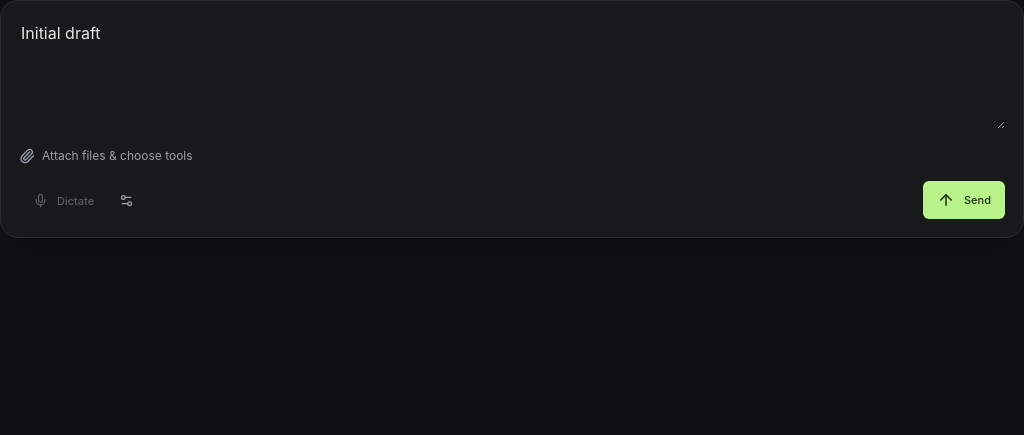
it: explains missing local runtime without asking for a microphone or enqueuing
Click the button named "Dictation options": {"x": 127, "y": 201} 110,184 -> 143,217
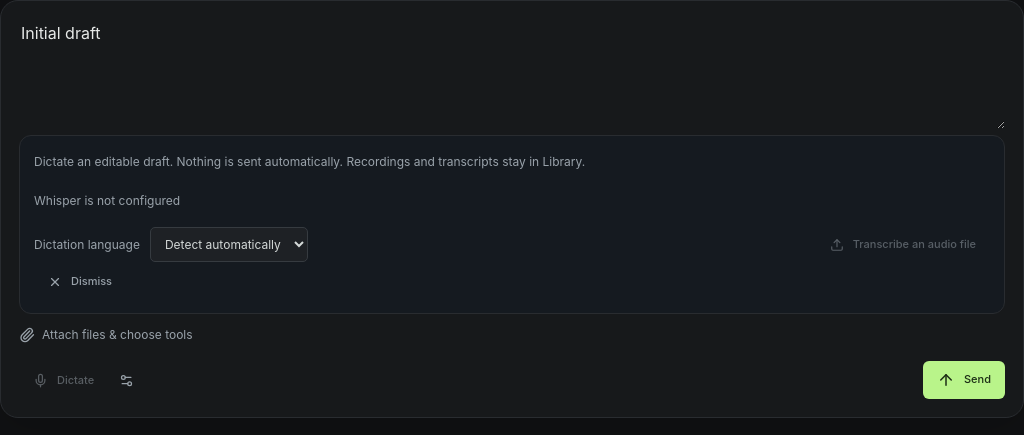
expect the button "Dictate" is disabled: met, box 19,362 -> 108,399
expect the text "Whisper is not configured" is shown: met, box 34,193 -> 180,208
